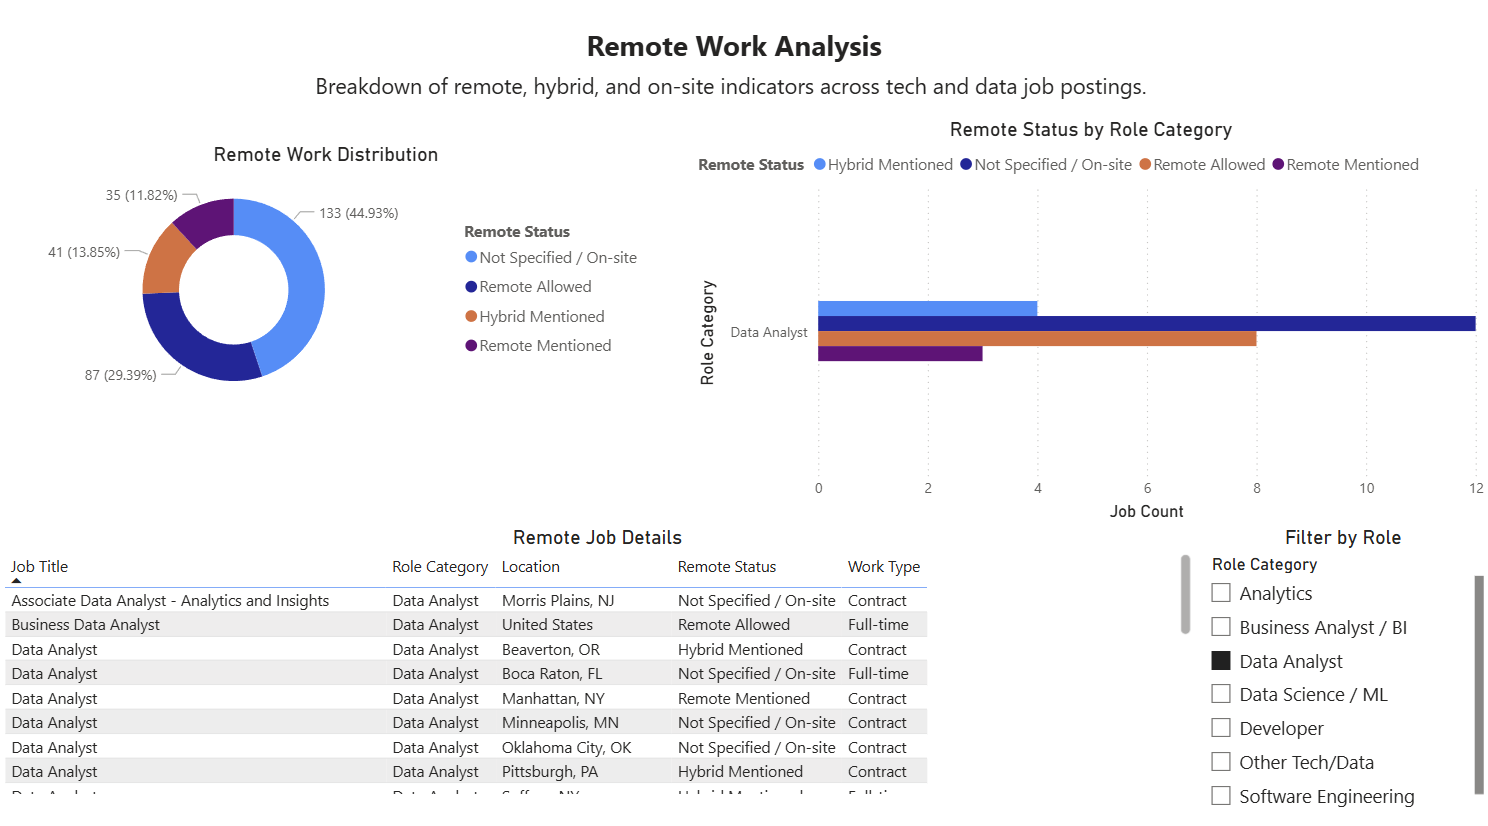

The page's visual inventory and layout, read from the dashboard file:
{"tool":"powerbi","page":{"name":"Remote Work Analysis","canvas":[1280,720],"ordinal":3},"visuals":[{"type":"textbox","box":[500,22,280,52],"z":0},{"type":"textbox","box":[267.5,60,745.8,45.8],"z":1},{"type":"donutChart","title":"Remote Work Distribution","fields":{"Category":["remote_summary_dashboard.remote_status_clean"],"Y":["Sum(remote_summary_dashboard.total_jobs)"]},"box":[0,127.1,562.9,232.9],"z":2},{"type":"clusteredBarChart","title":"Remote Status by Role Category","fields":{"Category":["jobs_dashboard.role_category"],"Y":["CountNonNull(jobs_dashboard.job_id)"],"Series":["jobs_dashboard.remote_status_clean"]},"box":[595.7,105.7,684.3,350],"z":3},{"type":"tableEx","title":"Remote Job Details","fields":{"Values":["jobs_dashboard.title","jobs_dashboard.role_category","jobs_dashboard.location","jobs_dashboard.remote_status_clean","jobs_dashboard.formatted_work_type"]},"box":[0,455.7,1028.6,234.3],"z":5},{"type":"slicer","title":"Filter by Role","fields":{"Values":["jobs_dashboard.role_category"]},"box":[1028.6,455.7,251.4,247.1],"z":6}]}

Visuals, with their boxes in screenshot pixels (x1, y1, x2, y2), scaled from the page's 1280x720 canvas onto the 1488x826 screenshot:
textbox: bbox(581, 25, 907, 85)
textbox: bbox(311, 69, 1178, 121)
"Remote Work Distribution" donutChart: bbox(0, 146, 654, 413)
"Remote Status by Role Category" clusteredBarChart: bbox(693, 121, 1487, 523)
"Remote Job Details" tableEx: bbox(0, 523, 1196, 792)
"Filter by Role" slicer: bbox(1196, 523, 1487, 806)
